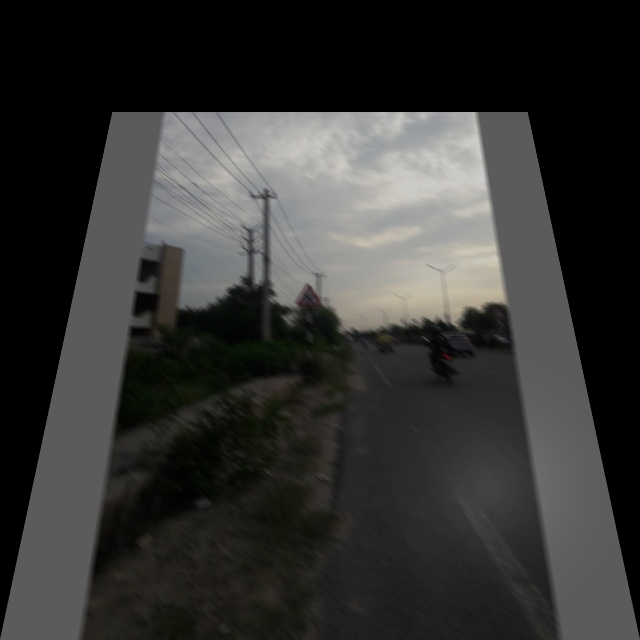Cross_Road: (294, 278, 323, 308)
